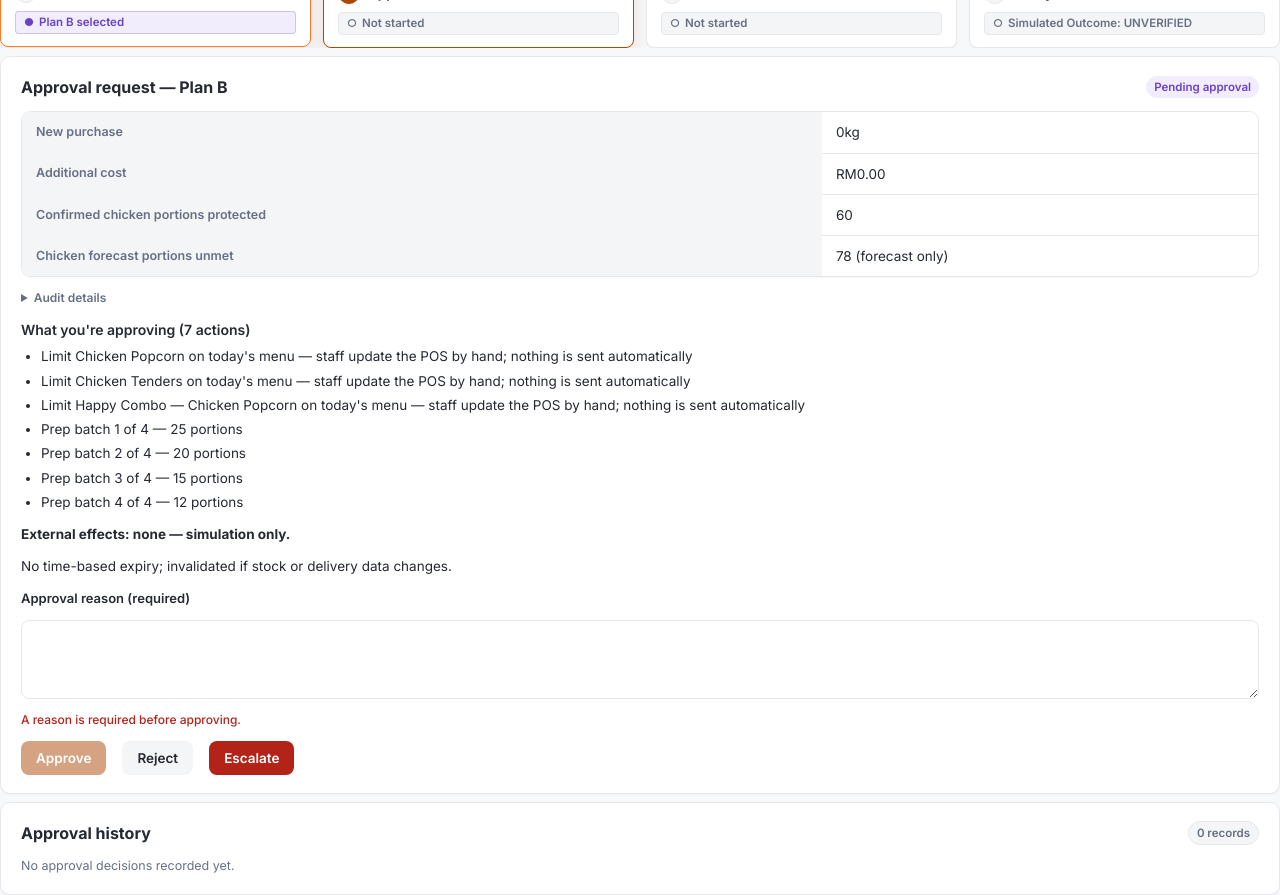
Scenario: P5 Acceptance Matrix: P5-T01 through P5-T18 › P5-T14: Reject Both enters ESCALATED state with no automatic plan execution, and allows Revise Constraints recovery
The image size is (1280, 895).
(page scrolled)
Click the button "Escalate" at (252, 758), box [209,741,294,775]
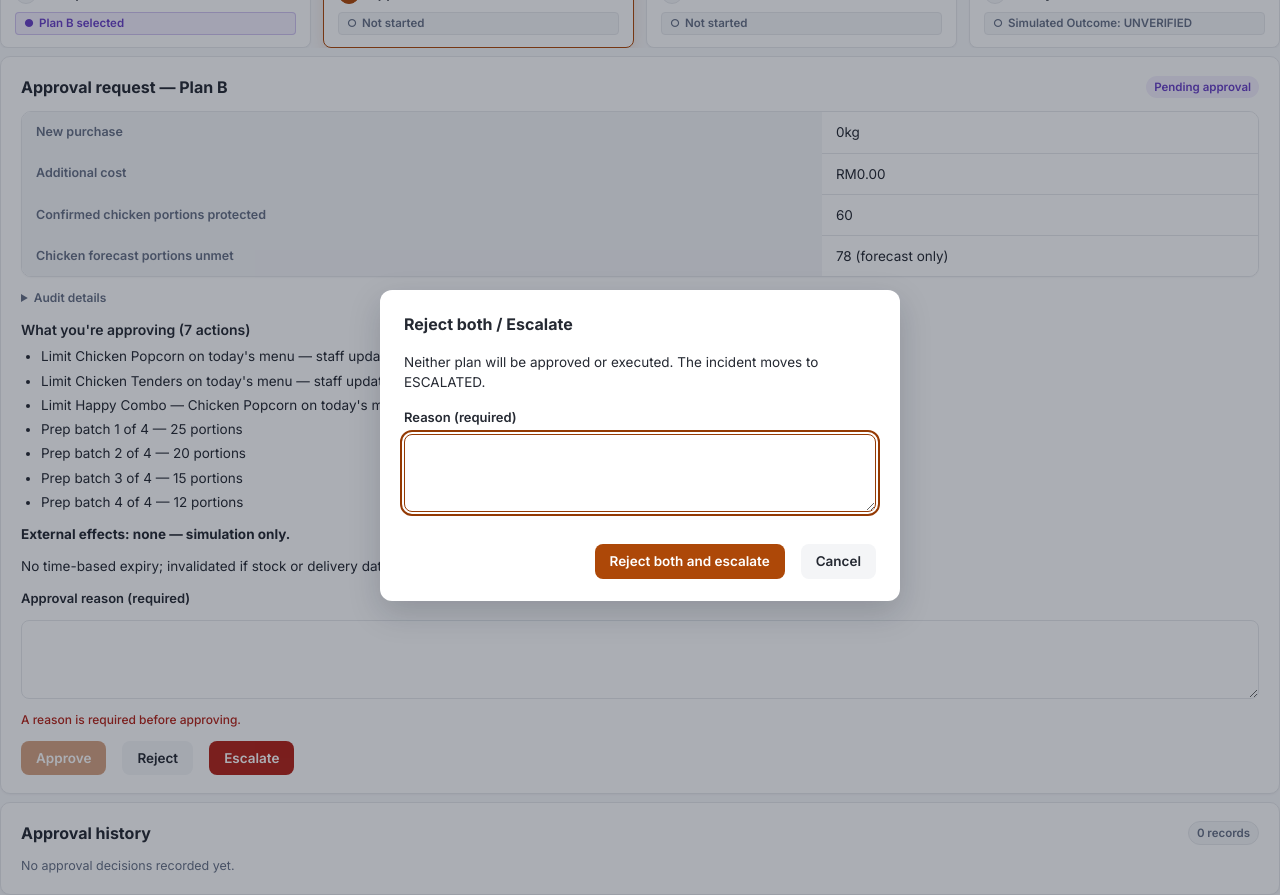
Type "Neither plan meets cost/speed trade-off" into the text box at (640, 473), box [404,434,876,512]
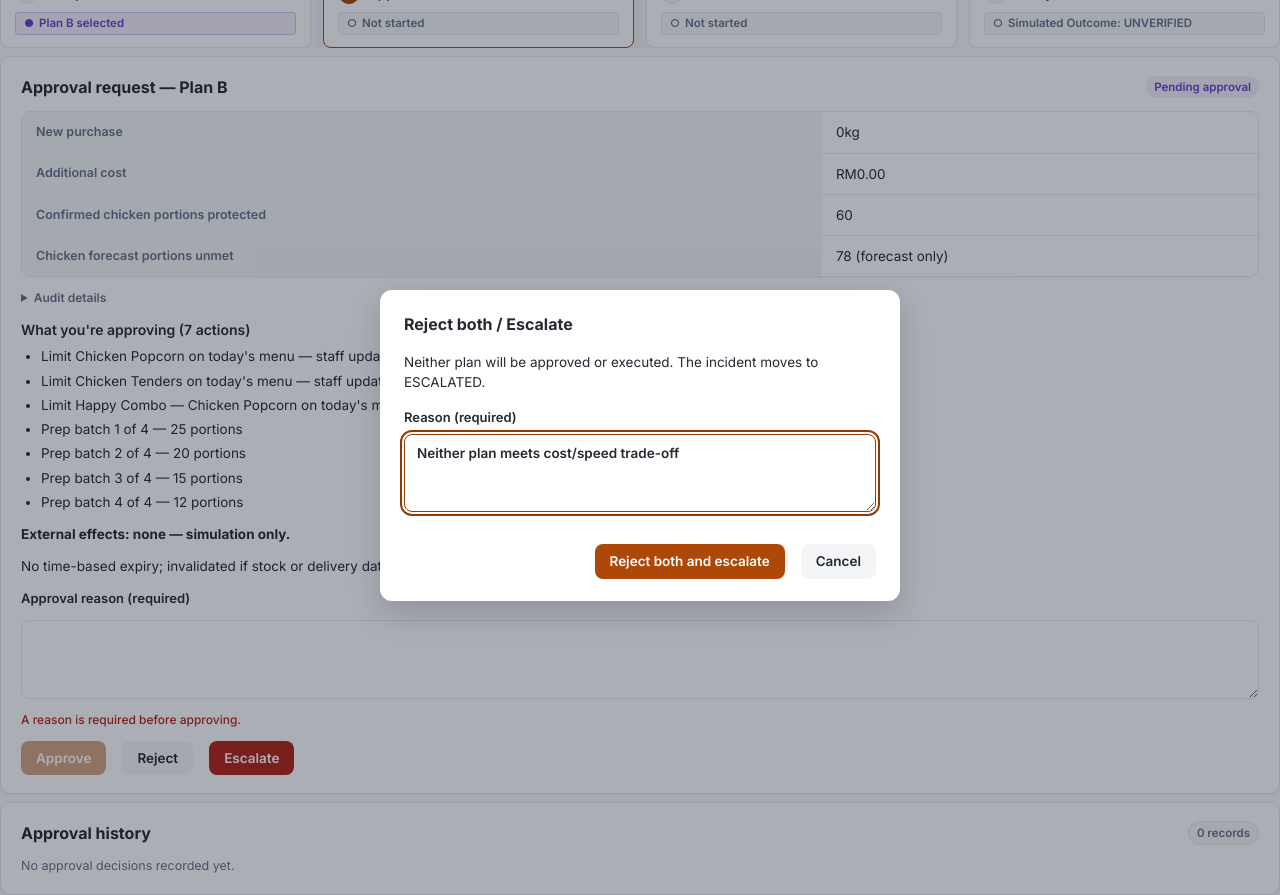
Click the button "Reject both and escalate" at (690, 561), box [594,544,785,579]
(page scrolled)
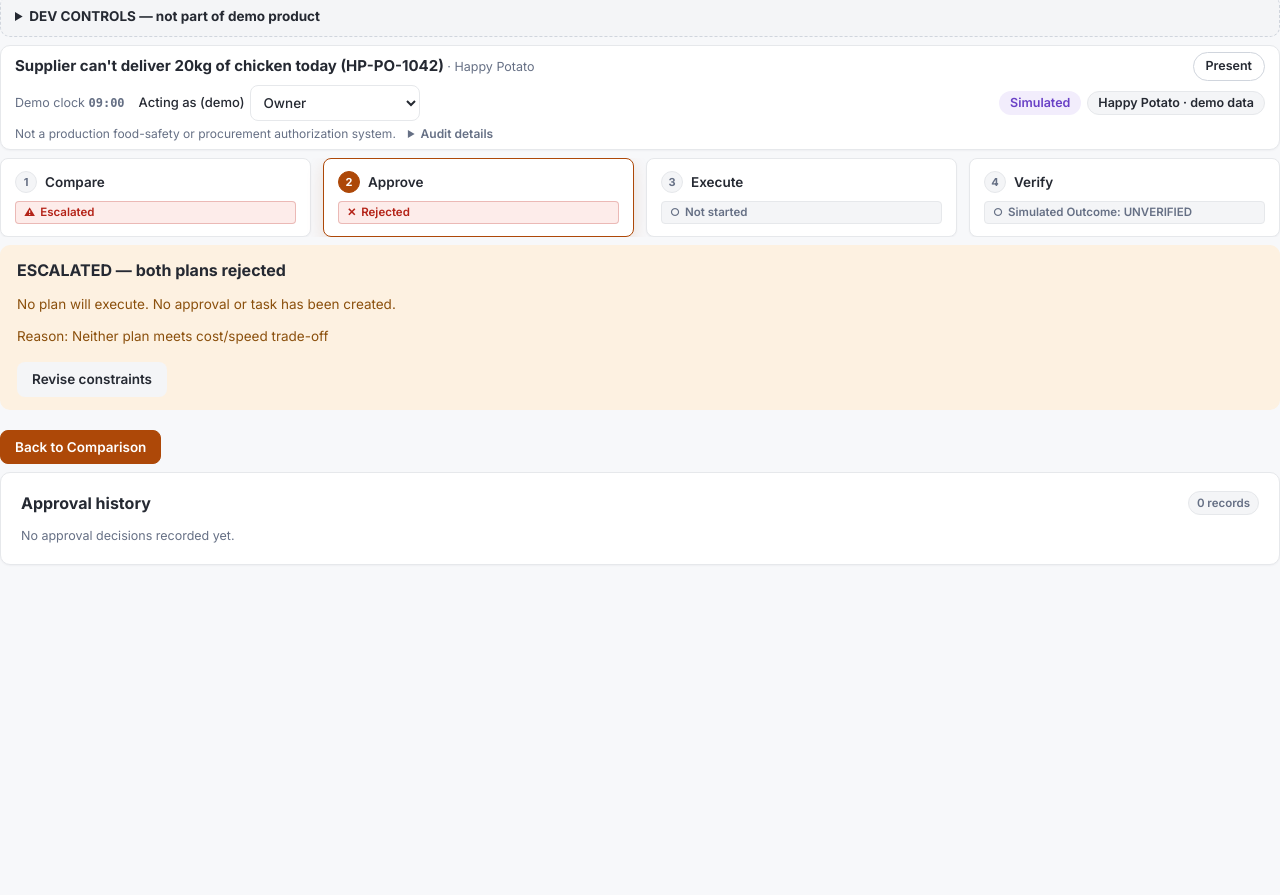
Expected: the element named "Escalation status" is shown, [0,245,1279,410]
Click the button "Revise constraints" at (92, 380), box [17,362,167,397]
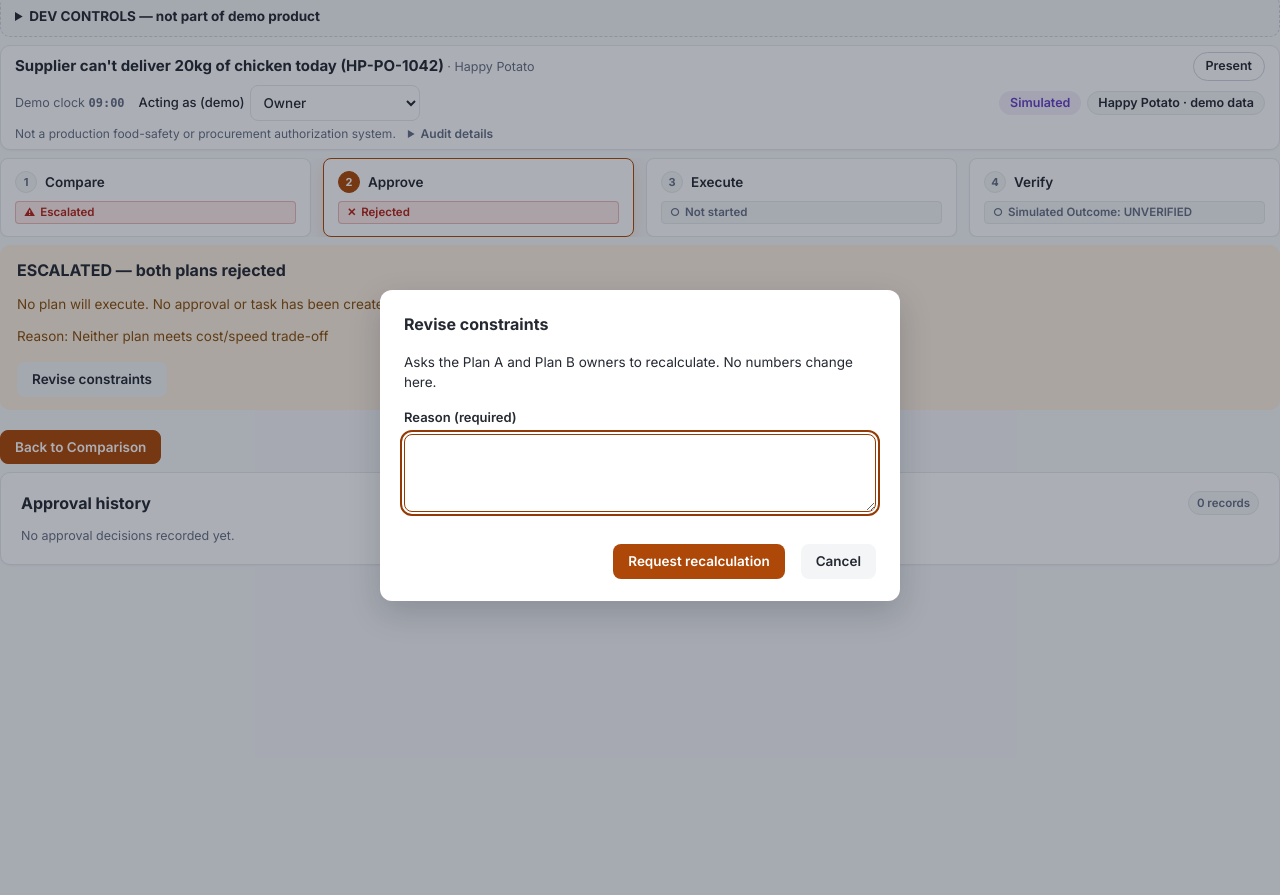
Type "Relax delivery window and allow partial substitute" into the text box at (640, 473), box [404,434,876,512]
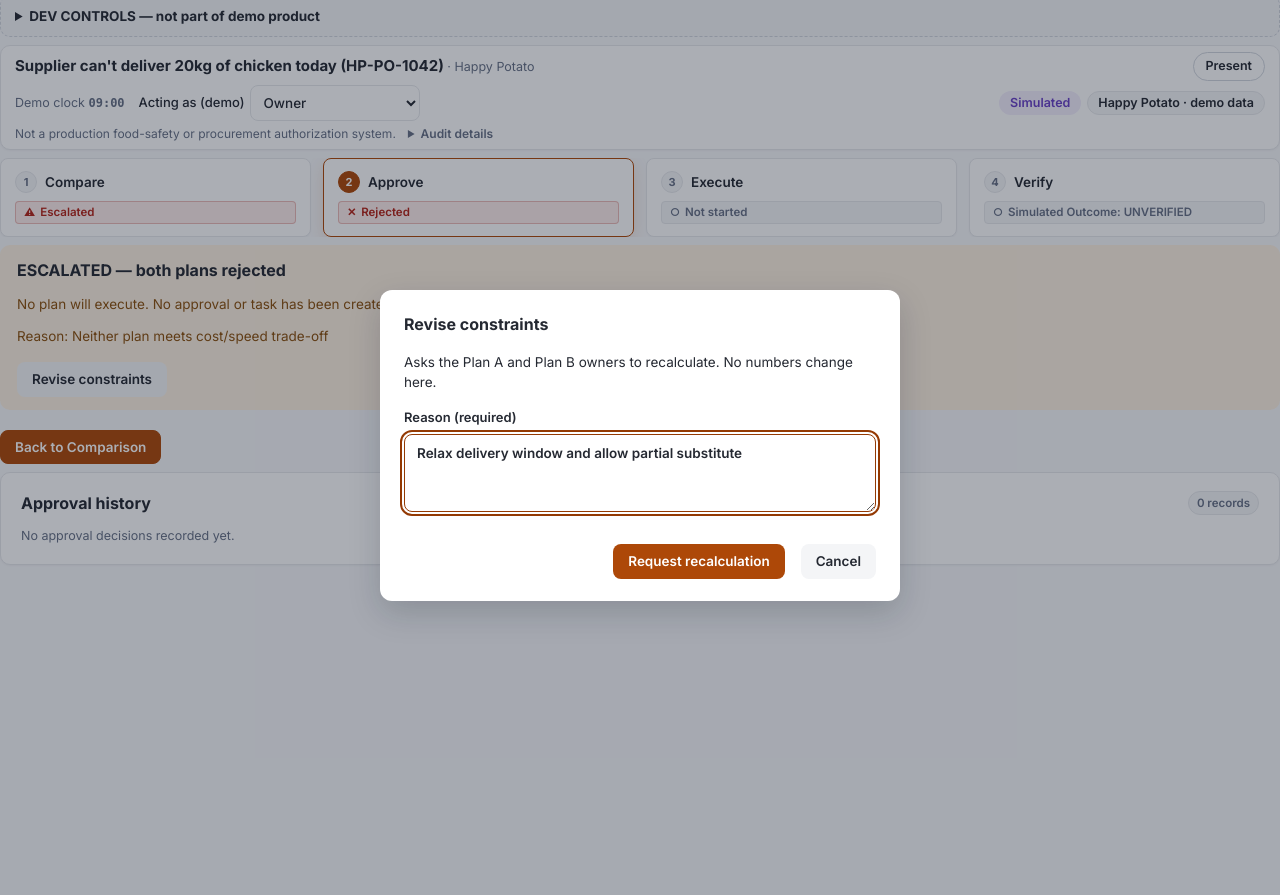
Click the button "Request recalculation" at (699, 561), box [613,544,785,579]
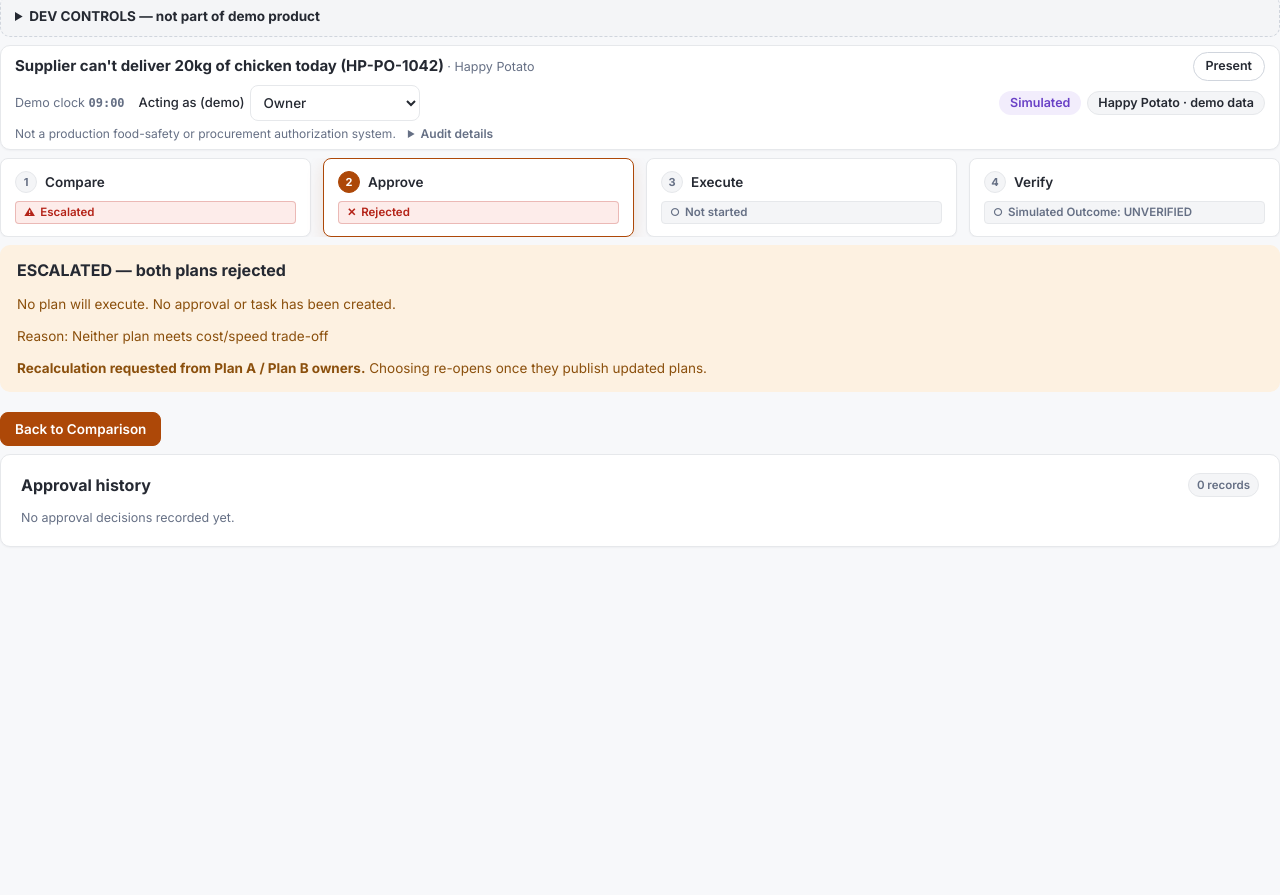
Expected: the text "Recalculation requested from Plan A / Plan B owners." is shown, [17,360,365,376]
